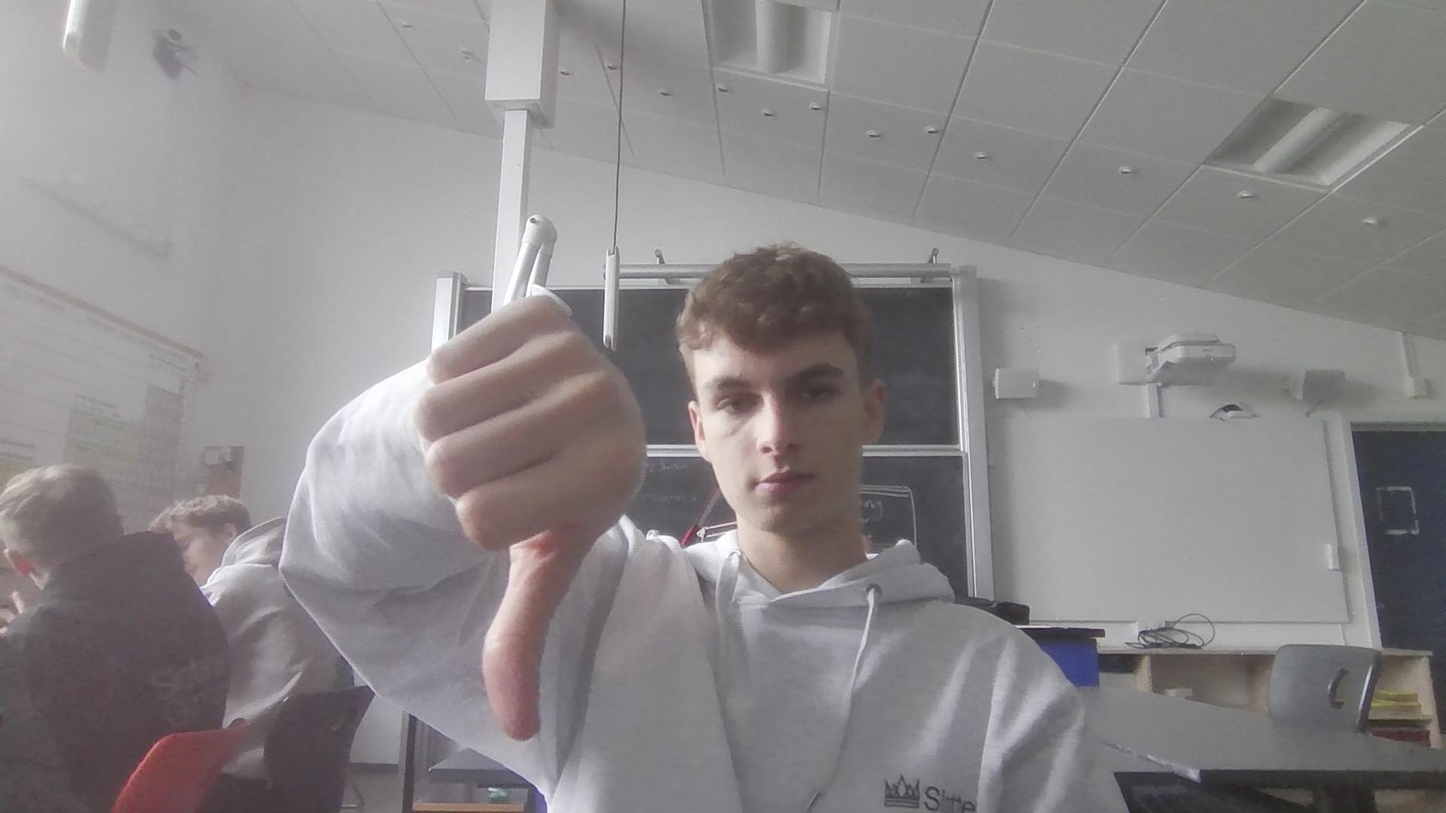thumbs down: (409, 279, 650, 745)
